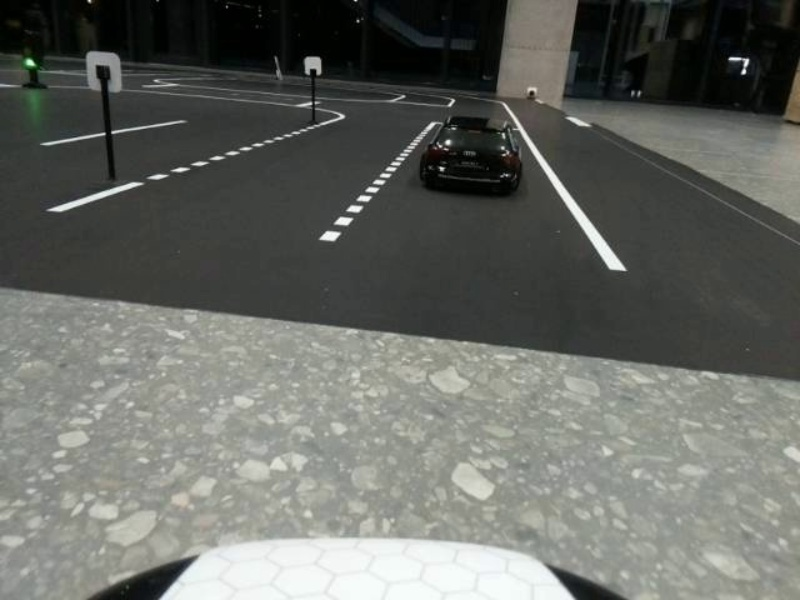car: (414, 115, 537, 199)
